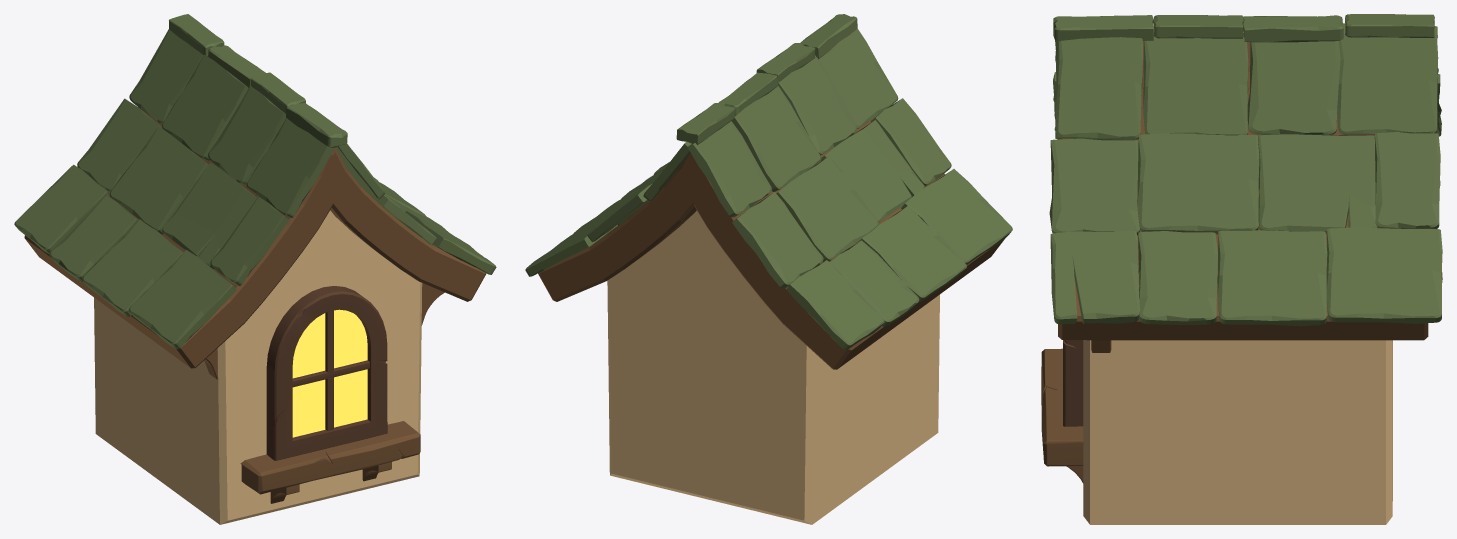
Rendered from gable_house.glb.
3 renders of one model, left to right at view 1: azimuth 30°, elevation 25°; view 2: azimuth 150°, elevation 25°; view 3: azimuth 270°, elevation 25°, orthographic. The views are drawn at different scales.
Parts seen in each view (by area): view 1: Dormer_cheeks.002, Plane.003, frame.004, panes.002, Cube.058, timber.009, Cube.052, Cube.056, Cube.059, Cube.049, Cube.051, Cube.050 (+15 smaller); view 2: Dormer_cheeks.002, Plane.003, Cube.052, Cube.058, Cube.049, Cube.059, Cube.056, Cube.057, Cube.055, Cube.061, Cube.051, Cube.050 (+9 smaller); view 3: Dormer_cheeks.002, Cube.004, Cube.005, Cube.007, Cube.008, Cube.001, Cube.003, Cube.080, Cube.002, Cube.006, Cube.011, Plane.003 (+8 smaller).
Boxes of the visible parts, x1=… form: Dormer_cheeks.002: x1=94, y1=210, x2=422, y2=524; Plane.003: x1=24, y1=107, x2=486, y2=368; frame.004: x1=266, y1=286, x2=387, y2=460; panes.002: x1=292, y1=309, x2=367, y2=437; Cube.058: x1=129, y1=249, x2=236, y2=349; timber.009: x1=240, y1=421, x2=420, y2=494; Cube.052: x1=109, y1=126, x2=208, y2=234; Cube.056: x1=162, y1=162, x2=256, y2=269; Cube.059: x1=82, y1=219, x2=183, y2=316; Cube.049: x1=162, y1=54, x2=248, y2=160; Cube.051: x1=247, y1=118, x2=335, y2=217; Cube.050: x1=207, y1=86, x2=285, y2=185; Dormer_cheeks.002: x1=607, y1=210, x2=939, y2=524; Plane.003: x1=538, y1=117, x2=1005, y2=369; Cube.052: x1=776, y1=156, x2=878, y2=262; Cube.058: x1=901, y1=169, x2=1012, y2=264; Cube.049: x1=732, y1=86, x2=821, y2=191; Cube.059: x1=859, y1=206, x2=966, y2=302; Cube.056: x1=820, y1=120, x2=924, y2=222; Cube.057: x1=732, y1=192, x2=823, y2=288; Cube.055: x1=786, y1=260, x2=884, y2=349; Cube.061: x1=687, y1=121, x2=771, y2=217; Cube.051: x1=815, y1=28, x2=898, y2=128; Cube.050: x1=777, y1=57, x2=857, y2=155; Dormer_cheeks.002: x1=1083, y1=340, x2=1392, y2=524; Cube.004: x1=1137, y1=133, x2=1259, y2=234; Cube.005: x1=1258, y1=134, x2=1377, y2=233; Cube.007: x1=1326, y1=227, x2=1442, y2=323; Cube.008: x1=1217, y1=230, x2=1327, y2=326; Cube.001: x1=1143, y1=36, x2=1248, y2=134; Cube.003: x1=1337, y1=33, x2=1438, y2=134; Cube.080: x1=1055, y1=37, x2=1142, y2=139; Cube.002: x1=1247, y1=41, x2=1340, y2=135; Cube.006: x1=1049, y1=138, x2=1139, y2=235; Cube.011: x1=1050, y1=230, x2=1139, y2=324; Plane.003: x1=1058, y1=33, x2=1428, y2=340.
Bounding box in the file's own units: 1.3 × 1.44 × 1.17.
